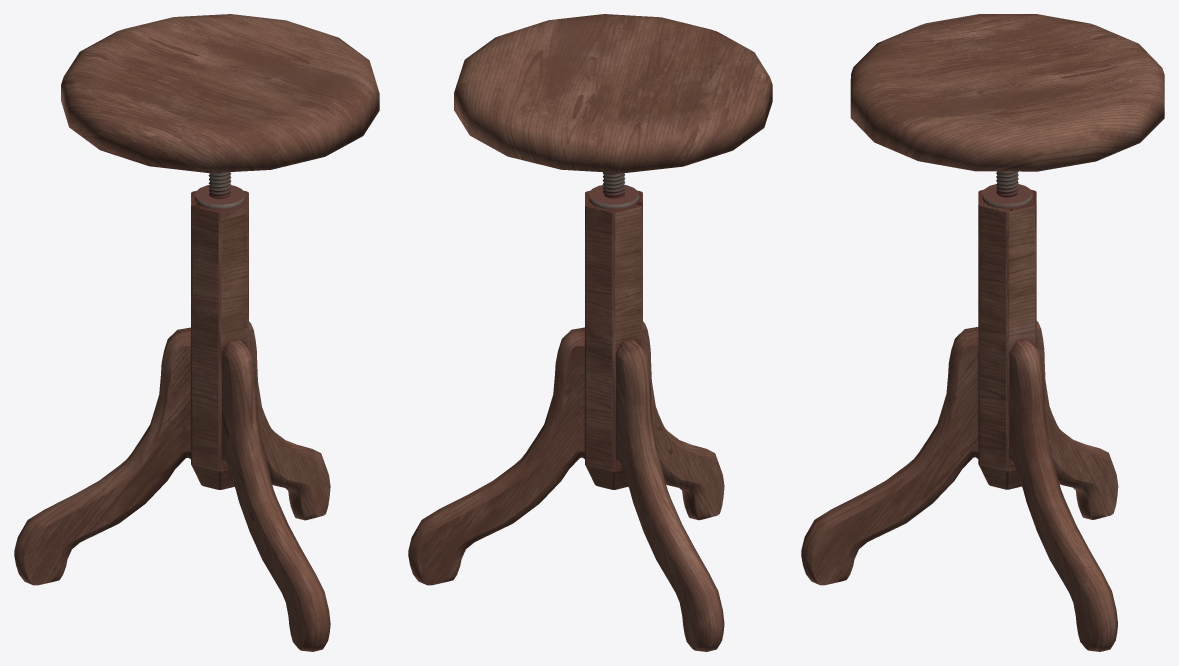
File: piano_chair.glb
3 renders of one model, left to right at view 1: azimuth 30°, elevation 25°; view 2: azimuth 150°, elevation 25°; view 3: azimuth 270°, elevation 25°, orthographic.
Visible parts, largest first — view 1: Cylinder_Bolt; view 2: Cylinder_Bolt; view 3: Cylinder_Bolt.
Part boxes in pixels (x1,y1,x2,y2): Cylinder_Bolt: (14, 14, 379, 651); Cylinder_Bolt: (408, 14, 772, 651); Cylinder_Bolt: (801, 14, 1164, 651).
Bounding box in the file's own units: 10.79 × 16.64 × 10.81.
Materials: 1 (1 with a texture image).
